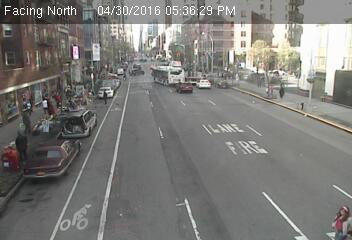neg: (320, 86, 334, 105), (60, 34, 73, 51), (317, 127, 330, 144), (107, 117, 119, 132), (194, 73, 205, 88), (215, 105, 226, 120), (197, 96, 208, 110), (126, 147, 136, 160), (65, 85, 75, 98), (92, 38, 102, 51), (166, 110, 176, 122), (125, 34, 134, 46), (202, 127, 211, 139), (269, 114, 278, 126), (297, 117, 306, 129), (151, 72, 160, 83), (251, 145, 259, 155), (38, 44, 45, 54), (148, 38, 155, 48), (175, 77, 181, 85), (101, 170, 107, 178), (216, 128, 221, 135), (237, 93, 242, 100), (131, 127, 135, 134)
pos: (6, 127, 32, 161), (329, 203, 351, 238), (35, 115, 52, 137), (96, 85, 112, 107), (273, 81, 288, 102), (254, 76, 263, 88), (119, 69, 127, 80)
